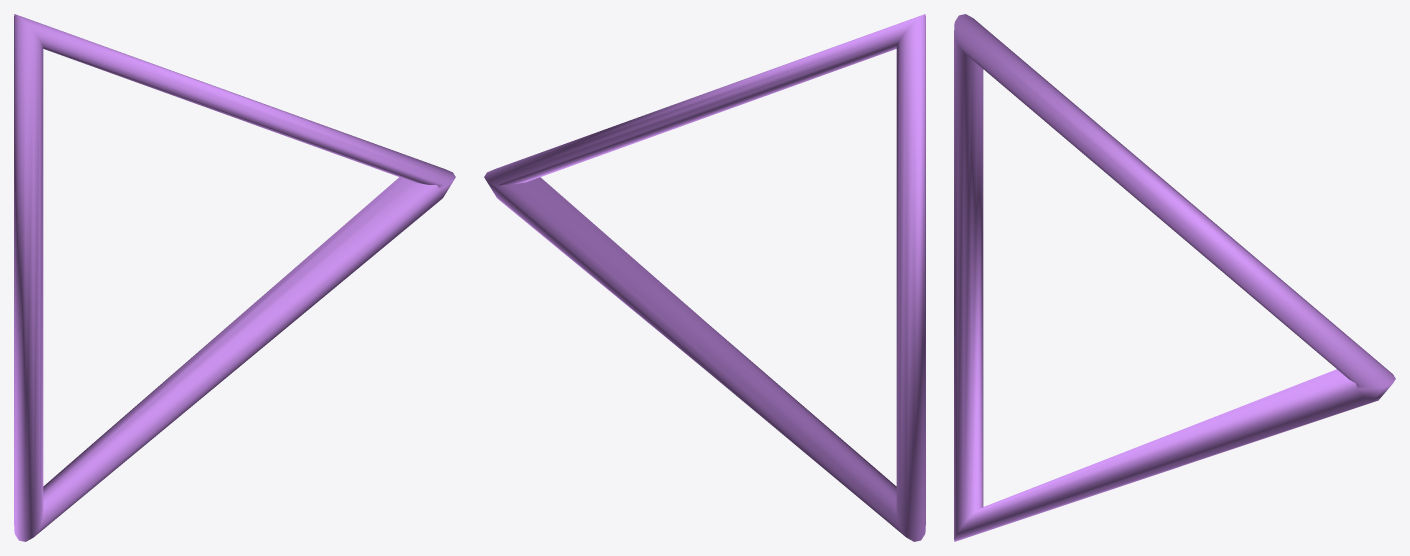
The model's file is triangle-C-tq_luH.glb.
The picture shows the model from 3 angles, left to right: view 1: azimuth 30°, elevation 25°; view 2: azimuth 150°, elevation 25°; view 3: azimuth 330°, elevation 25°; orthographic projection.
Parts seen in each view (by area): view 1: R3D_triangle_Body_0; view 2: R3D_triangle_Body_0; view 3: R3D_triangle_Body_0.
Part boxes in pixels (bbox=[...]): R3D_triangle_Body_0: bbox=[14, 14, 455, 541]; R3D_triangle_Body_0: bbox=[484, 14, 925, 541]; R3D_triangle_Body_0: bbox=[954, 14, 1395, 541].
Size of the model in its own units: 2.01 by 2.32 by 0.18.
